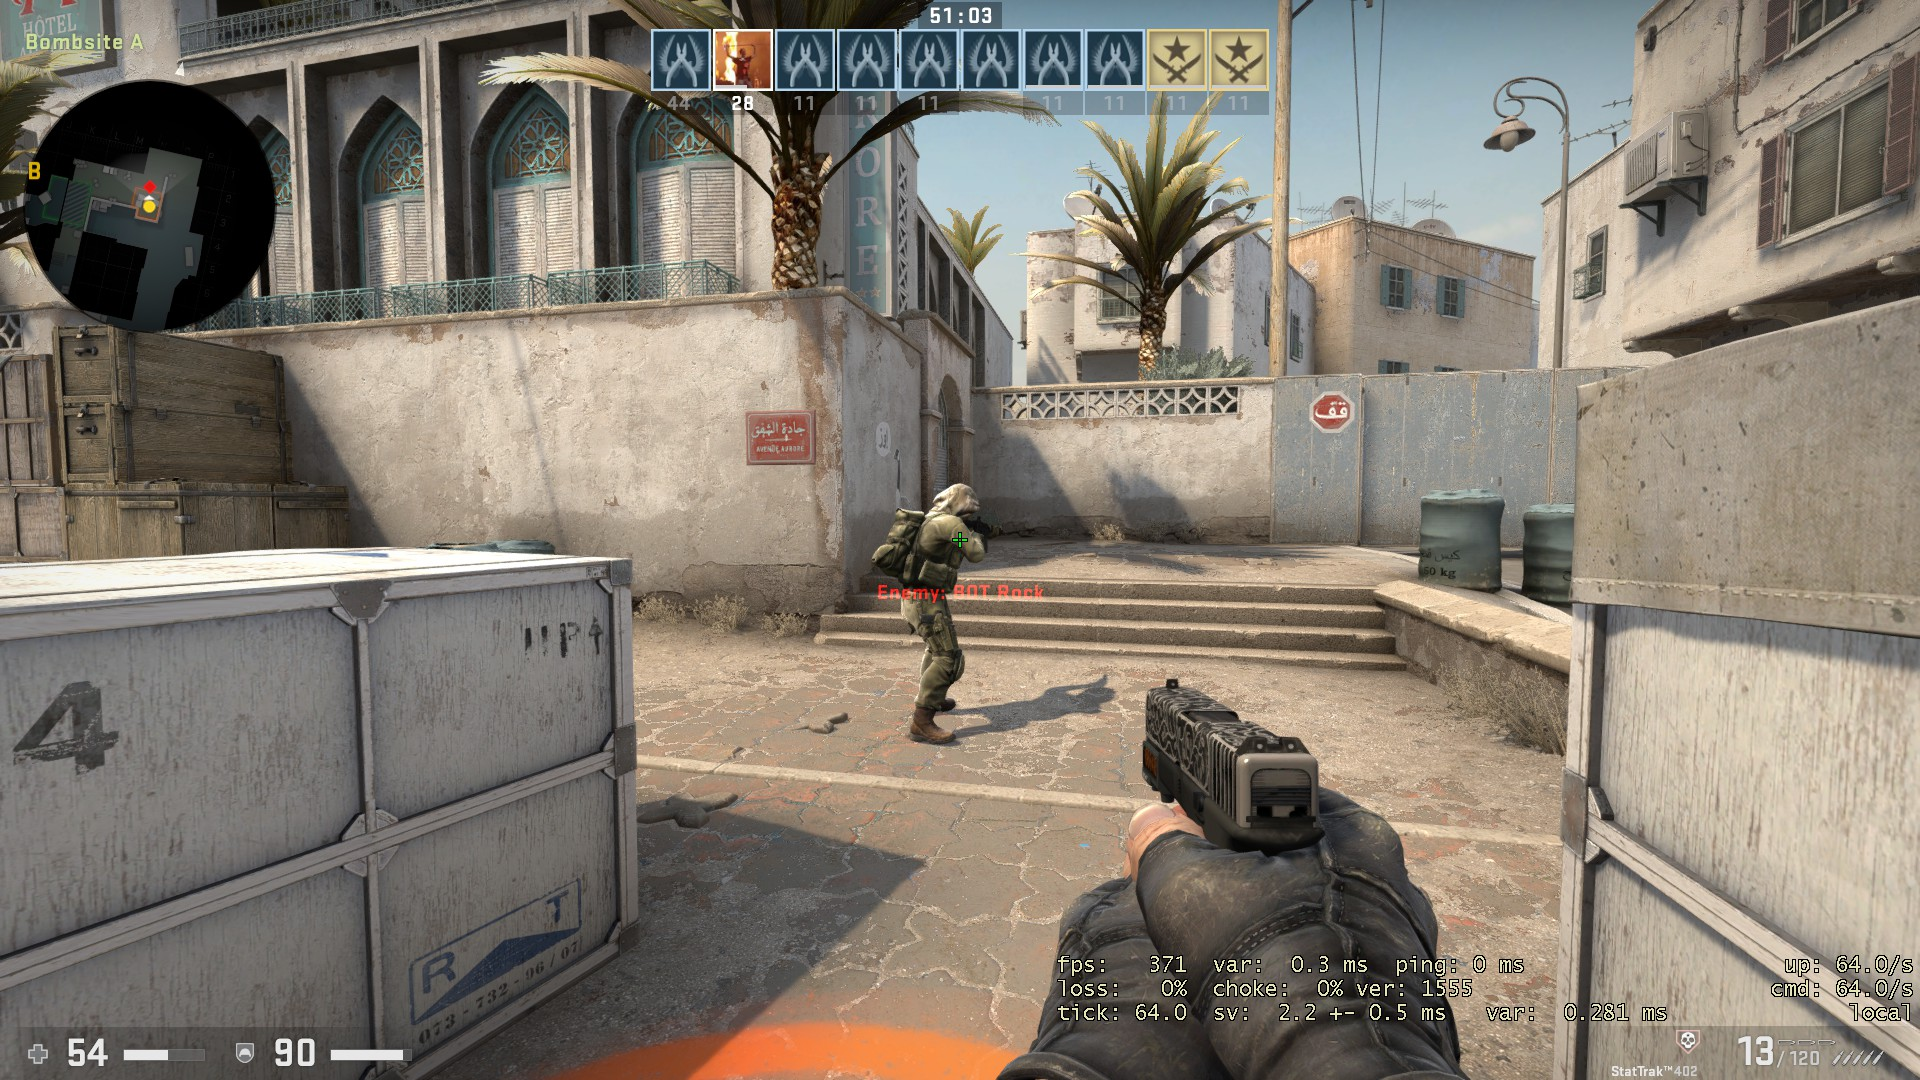player: (868, 475, 999, 753)
